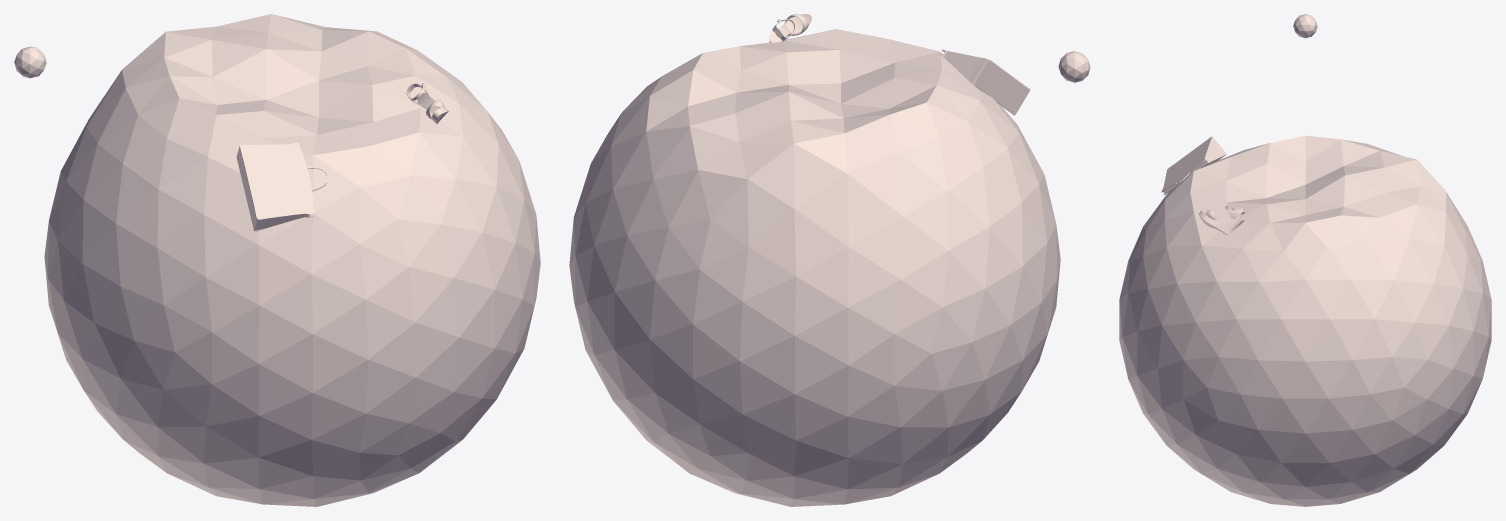
Rendered from planet.dae.
3 renders of one model, left to right at view 1: azimuth 30°, elevation 25°; view 2: azimuth 150°, elevation 25°; view 3: azimuth 270°, elevation 25°, orthographic. The views are drawn at different scales.
Visible parts, largest first — view 1: Sphere, bag1, Sphere.1, shoe; view 2: Sphere, bag1, Sphere.1, shoe; view 3: Sphere, bag1, shoe, Sphere.1.
Boxes of the visible parts, x1,y1,x2,y2 form: Sphere: (44,14,540,506); bag1: (236,142,328,231); Sphere.1: (14,46,46,78); shoe: (406,83,448,123); Sphere: (569,29,1060,506); bag1: (939,49,1030,115); Sphere.1: (1058,51,1090,82); shoe: (769,14,811,42); Sphere: (1119,135,1491,506); bag1: (1161,136,1226,194); shoe: (1199,206,1244,234); Sphere.1: (1293,14,1317,38).
Size of the model in its own units: 452 by 441 by 394.
